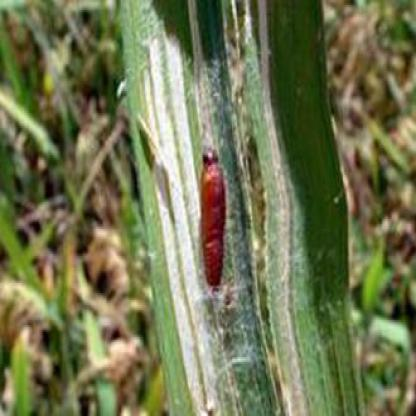leaf-folder: (177, 124, 269, 286)
